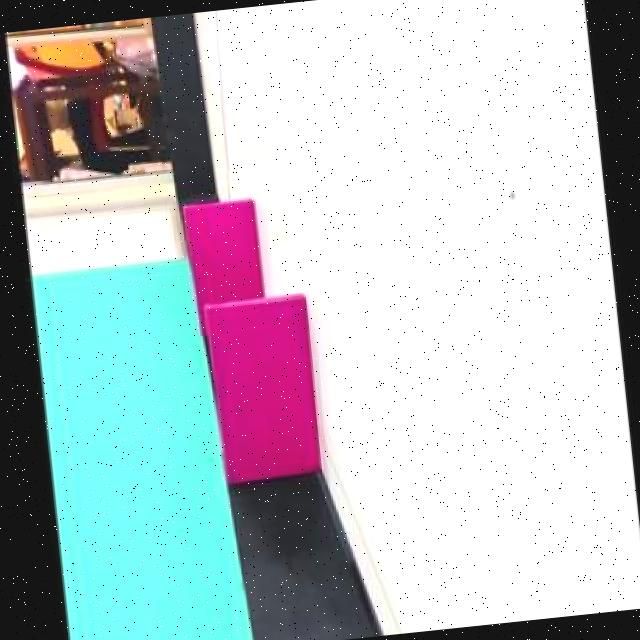xparking: (208, 296, 324, 478), (187, 198, 263, 304)
